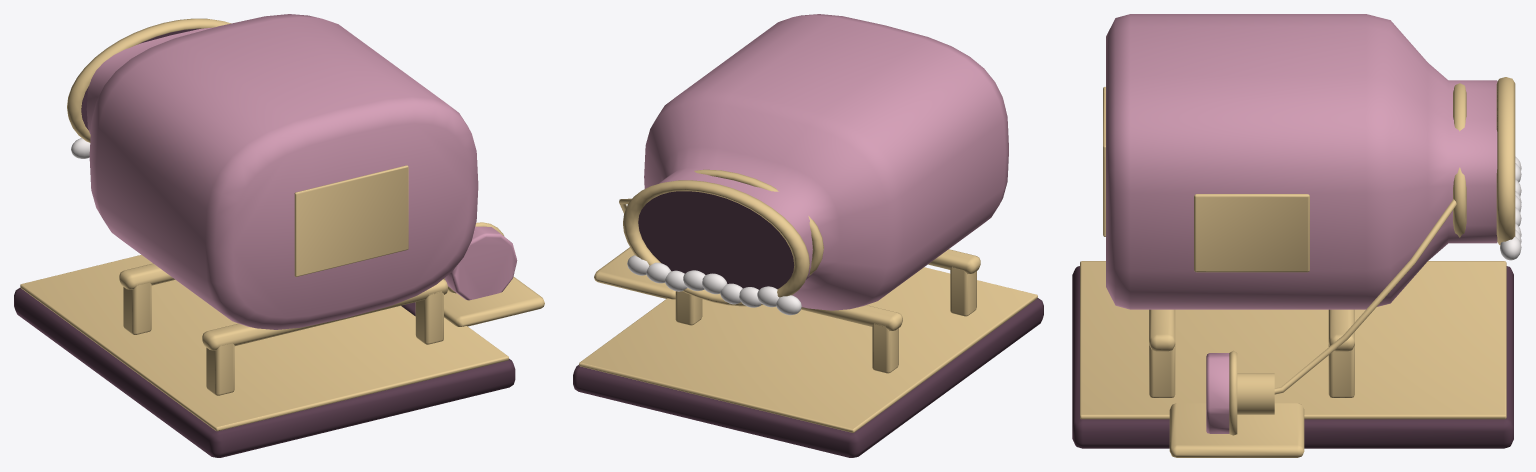
Rendered from spout-boudoir.glb.
3 renders of one model, left to right at view 1: azimuth 30°, elevation 25°; view 2: azimuth 150°, elevation 25°; view 3: azimuth 270°, elevation 25°, orthographic. The views are drawn at different scales.
Parts seen in each view (by area): view 1: boudoir_glass, boudoir_metal, boudoir_ink; view 2: boudoir_glass, boudoir_metal, boudoir_ink, boudoir_foam; view 3: boudoir_glass, boudoir_metal, boudoir_ink, boudoir_foam.
Part boxes in pixels (left/top/right/bottom): boudoir_glass: left=86, top=14, right=517, bottom=329; boudoir_metal: left=20, top=18, right=544, bottom=431; boudoir_ink: left=14, top=28, right=515, bottom=457; boudoir_glass: left=644, top=14, right=1008, bottom=310; boudoir_metal: left=579, top=169, right=1037, bottom=432; boudoir_ink: left=573, top=191, right=1043, bottom=457; boudoir_foam: left=627, top=255, right=801, bottom=315; boudoir_glass: left=1106, top=14, right=1497, bottom=433; boudoir_metal: left=1080, top=77, right=1515, bottom=457; boudoir_ink: left=1072, top=266, right=1513, bottom=448; boudoir_foam: left=1500, top=156, right=1521, bottom=260.
Bounding box in the file's own units: 12.65 × 9.5 × 12.
